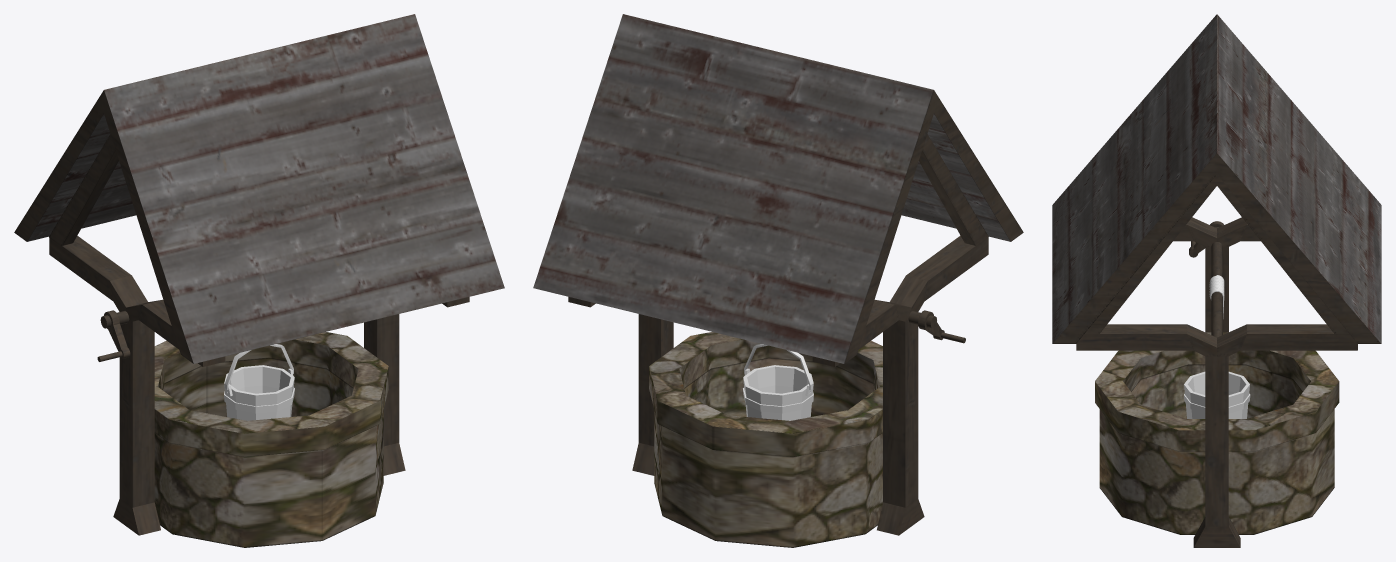
The model's file is WaterWell.fbx.
3 views of the same model, side by side, from view 1: azimuth 30°, elevation 25°; view 2: azimuth 150°, elevation 25°; view 3: azimuth 270°, elevation 25° (orthographic). The views are drawn at different scales.
Parts seen in each view (by area): view 1: Well, Bucket; view 2: Well, Bucket; view 3: Well, Bucket.
Part boxes in pixels (bbox=[...]): Well: bbox=[14, 14, 504, 547]; Bucket: bbox=[224, 344, 294, 420]; Well: bbox=[533, 14, 1023, 547]; Bucket: bbox=[743, 344, 813, 420]; Well: bbox=[1052, 14, 1381, 547]; Bucket: bbox=[1184, 371, 1250, 418].
Size of the model in its own units: 148 by 140 by 190.
